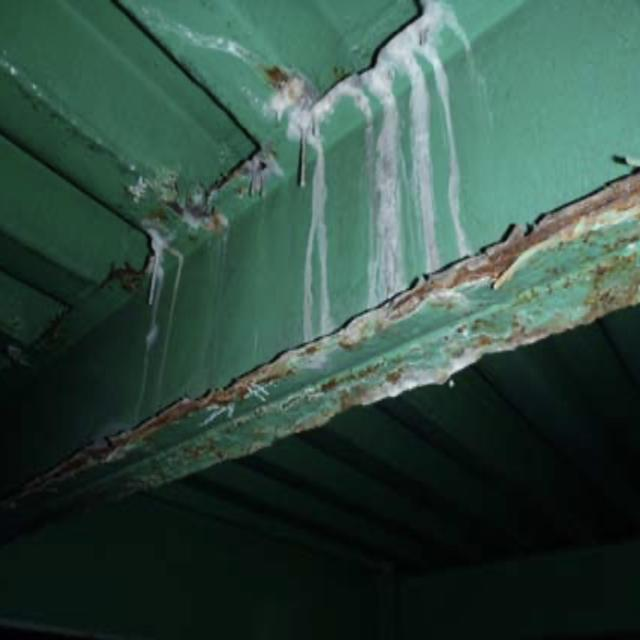corrosion: (496, 97, 638, 280), (77, 367, 279, 450)
freelime: (273, 13, 480, 341)
